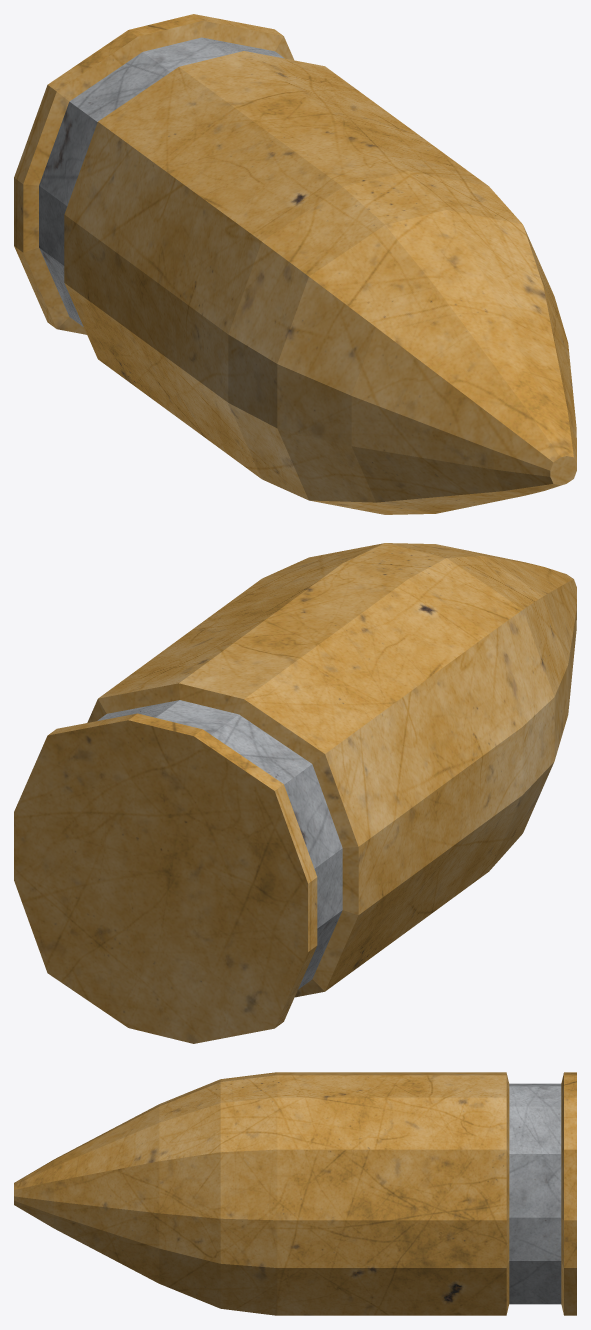
Rendered from RangedMobBullet.fbx.
3 views of the same model, one above another, from view 1: azimuth 30°, elevation 25°; view 2: azimuth 150°, elevation 25°; view 3: azimuth 270°, elevation 25° (orthographic). The views are drawn at different scales.
Parts seen in each view (by area): view 1: Cube; view 2: Cube; view 3: Cube.
Boxes of the visible parts, left/top/right/bottom form: Cube: left=14, top=14, right=576, bottom=514; Cube: left=14, top=543, right=576, bottom=1043; Cube: left=14, top=1072, right=576, bottom=1315.
Size of the model in its own units: 71.96 by 71.96 by 171.
2 materials, 2 textured.
